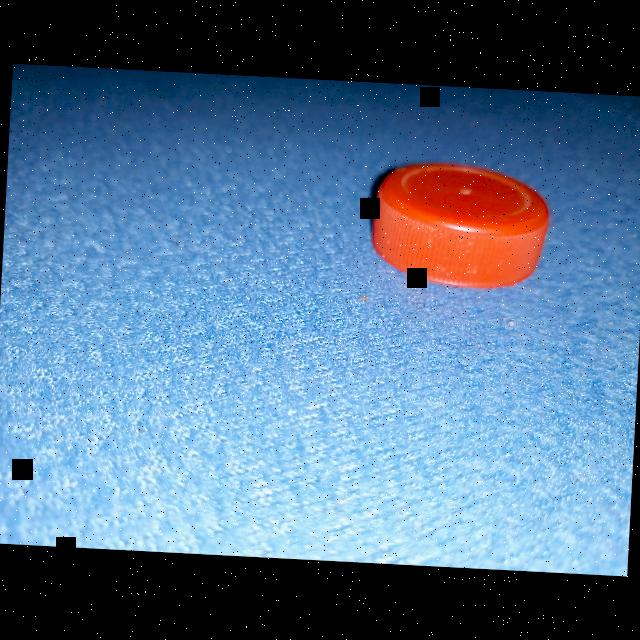plastic_bottle_cap: (367, 158, 553, 292)
